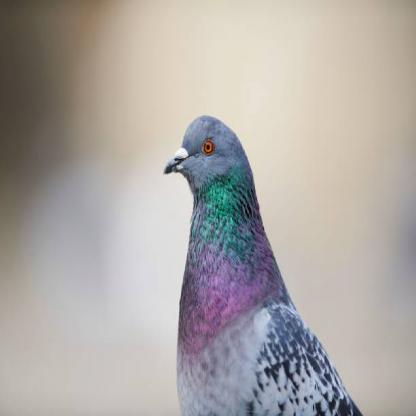Flying Rat: (164, 109, 362, 416)
